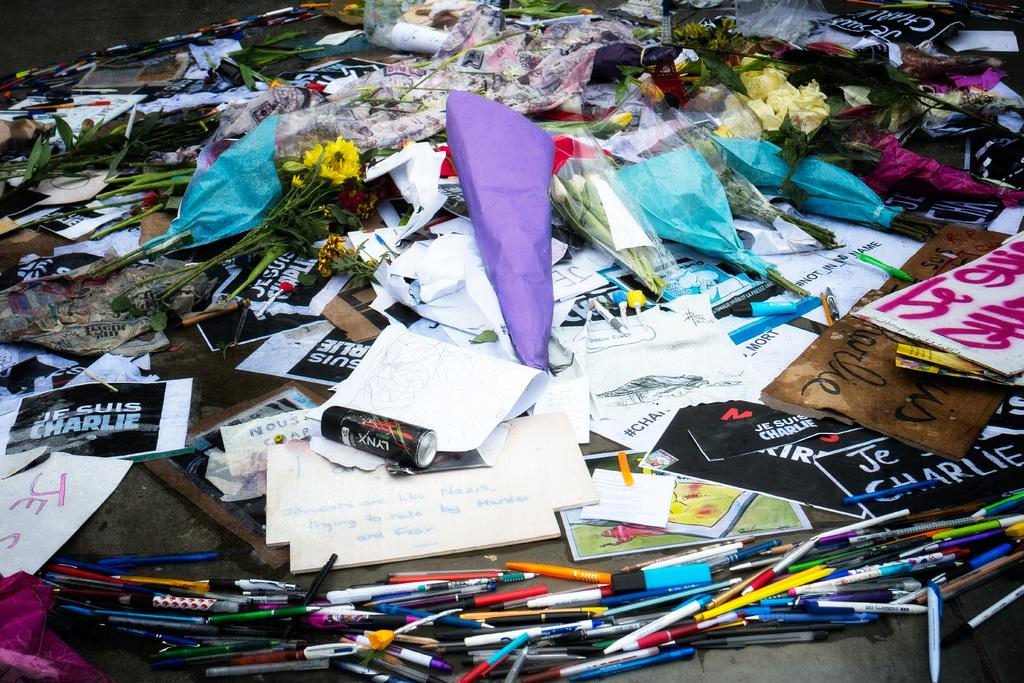pen: (0, 486, 1023, 682), (766, 259, 815, 300), (585, 295, 627, 336), (856, 252, 914, 281), (838, 486, 910, 504), (731, 302, 805, 317), (822, 282, 840, 325)
